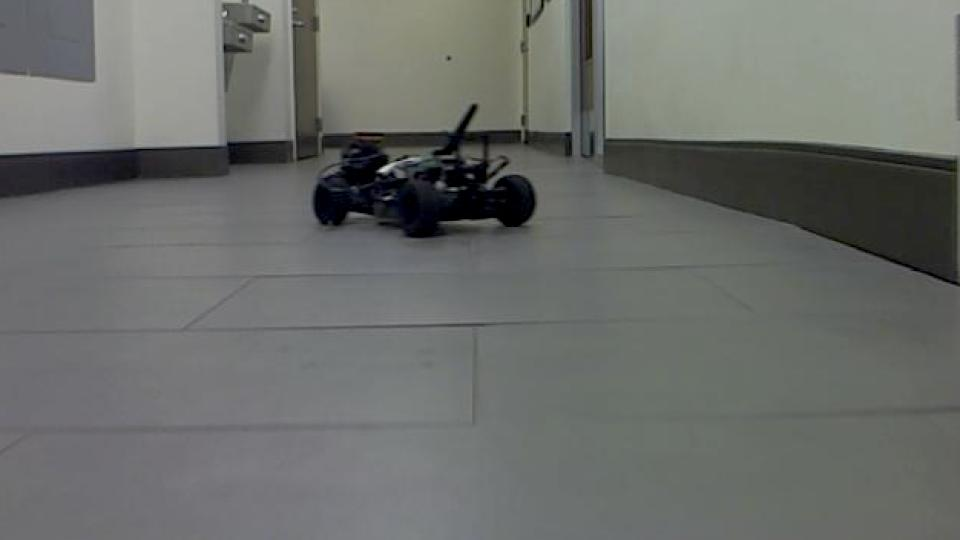car: (310, 100, 541, 241)
